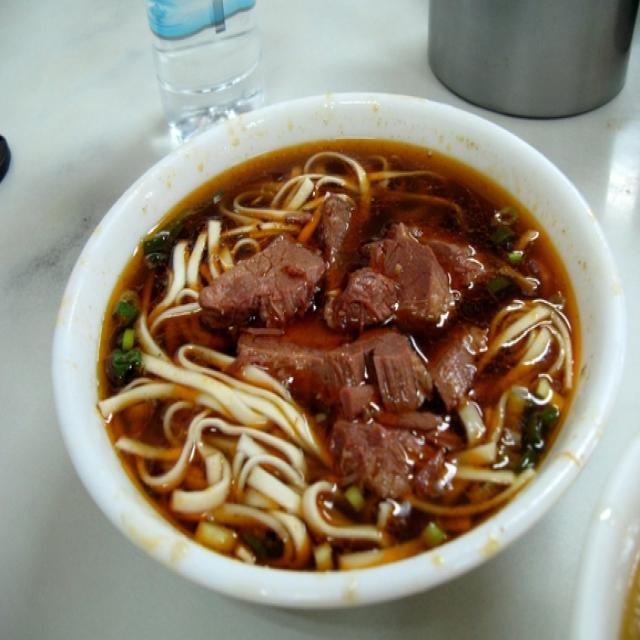面条主食: (78, 104, 596, 570)
